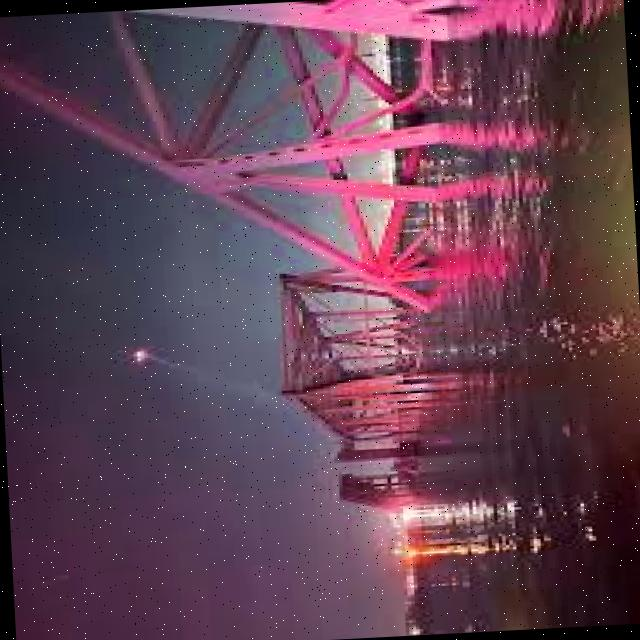bridge collapse: (138, 180, 557, 528)
